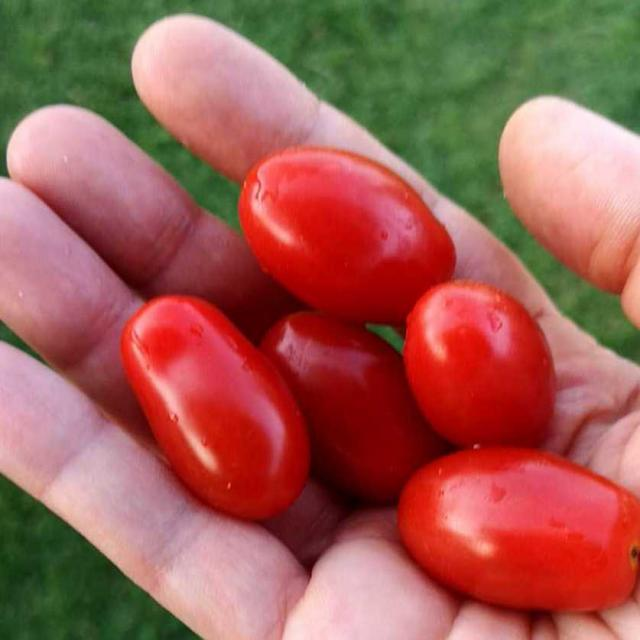tomato-raw: (16, 75, 575, 579)
